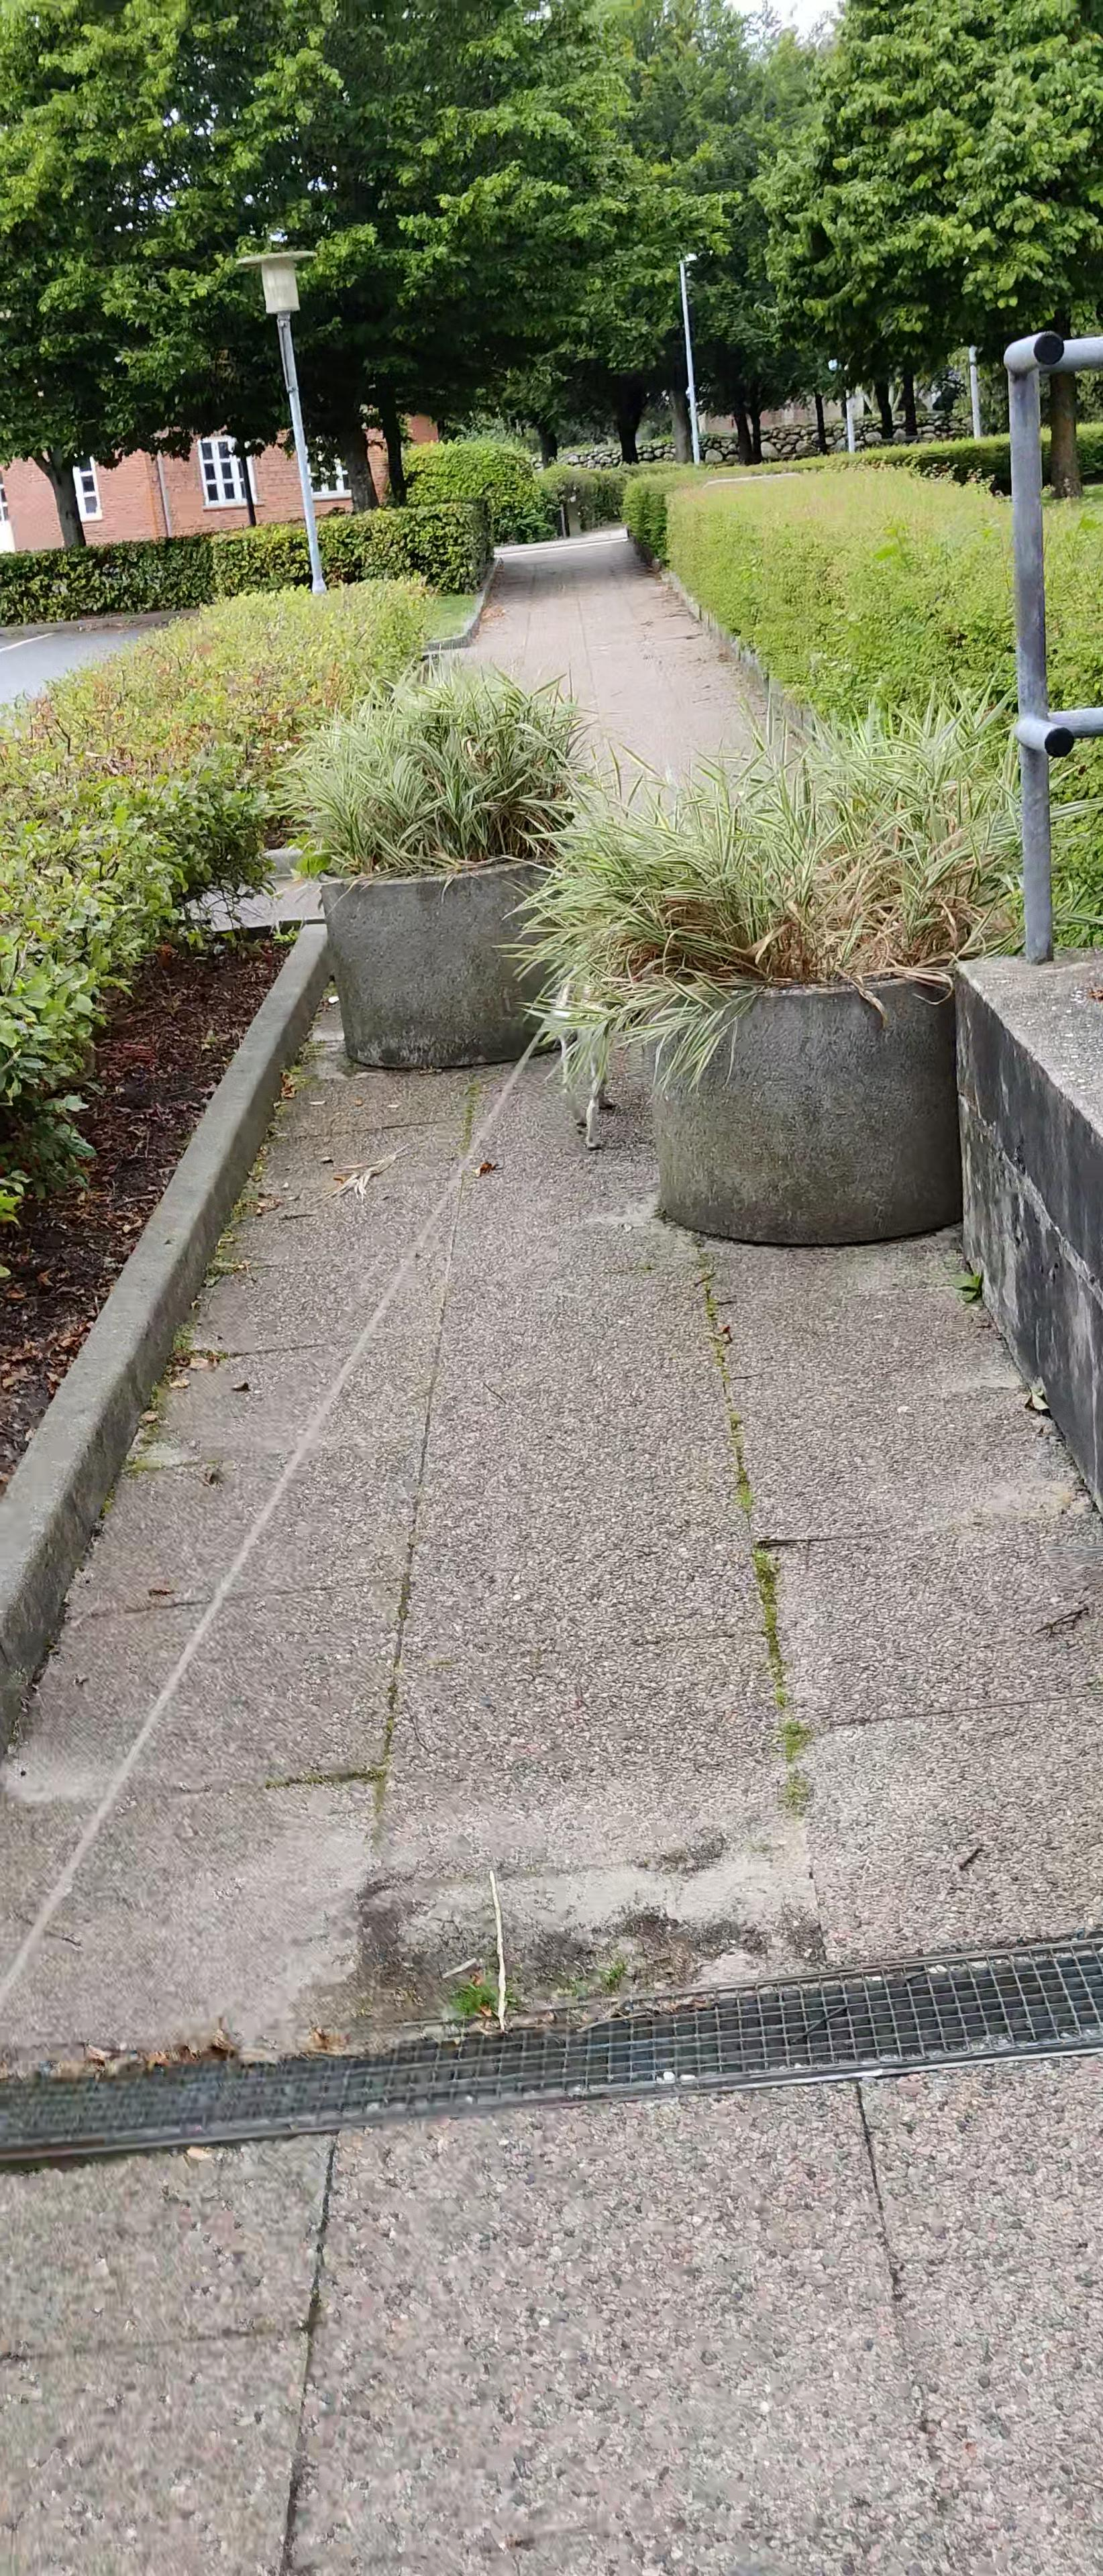Dog: (549, 956, 623, 1157)
